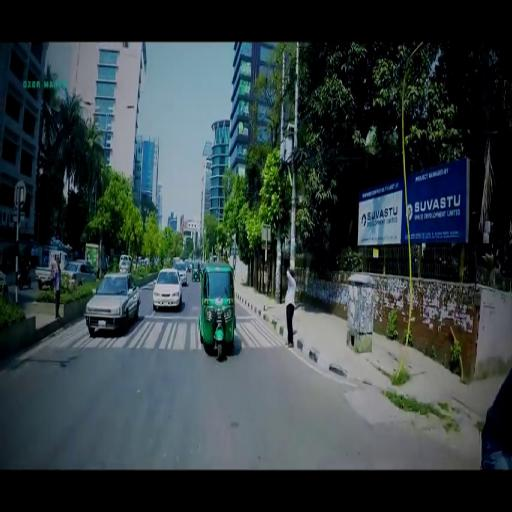car: (85, 270, 143, 336), (153, 268, 182, 309), (60, 260, 96, 286), (176, 263, 188, 284)
minivan: (118, 254, 134, 273)
pickup: (35, 248, 68, 285), (84, 242, 106, 268)
three wheelers (CNG): (199, 262, 237, 361), (191, 261, 199, 285)
